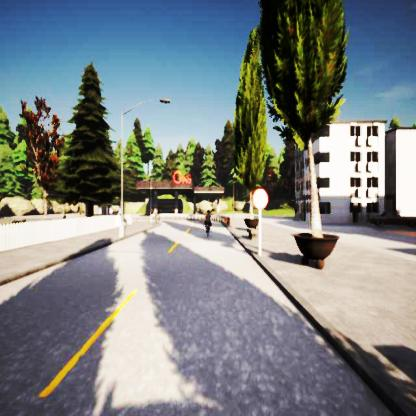motobike: (203, 210, 212, 234)
